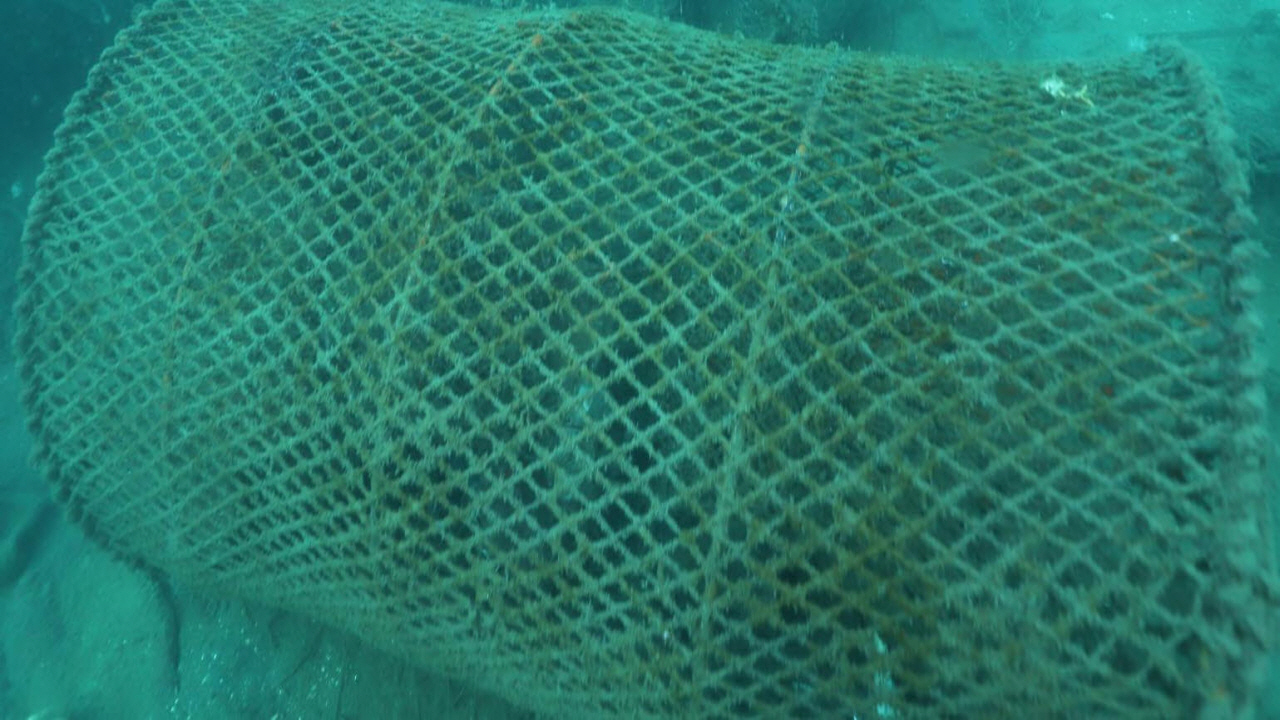spring fish trap: (15, 0, 1265, 720)
